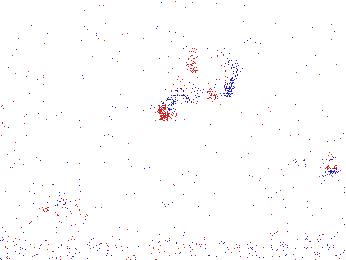flame jellyfish: (156, 47, 243, 119), (281, 153, 341, 208), (34, 166, 89, 219)
